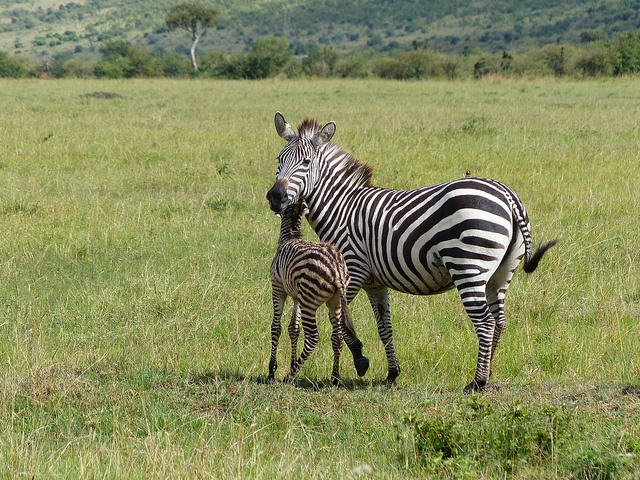zebra: (271, 108, 564, 390), (268, 196, 372, 385)
